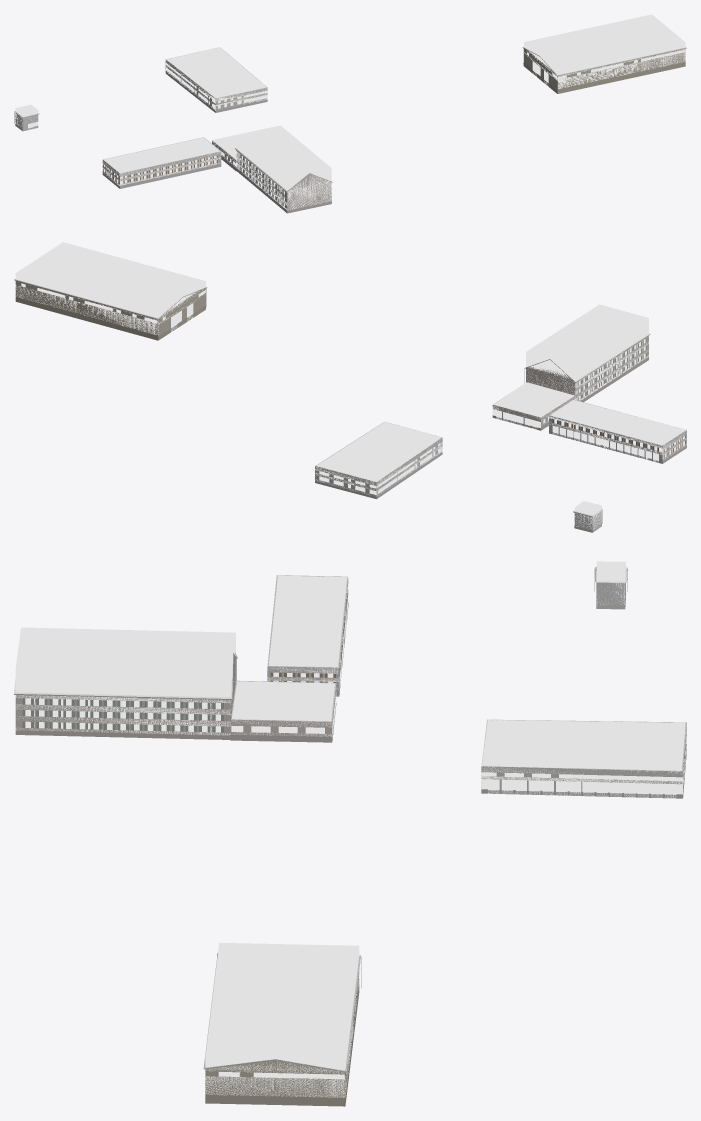
The picture shows the model from 3 angles, top to bottom: view 1: azimuth 30°, elevation 25°; view 2: azimuth 150°, elevation 25°; view 3: azimuth 270°, elevation 25°; orthographic projection. The views are drawn at different scales.
Visible parts, largest first — view 1: col, bld; view 2: col, bld; view 3: col, bld.
Boxes of the visible parts, bbox=[...] form: col: bbox=[15, 14, 685, 210]; bld: bbox=[14, 47, 686, 213]; col: bbox=[15, 242, 686, 529]; bld: bbox=[14, 279, 686, 532]; col: bbox=[15, 561, 686, 1097]; bld: bbox=[14, 567, 686, 1106].
Bounding box in the file's own units: 263 × 16.89 × 144.
